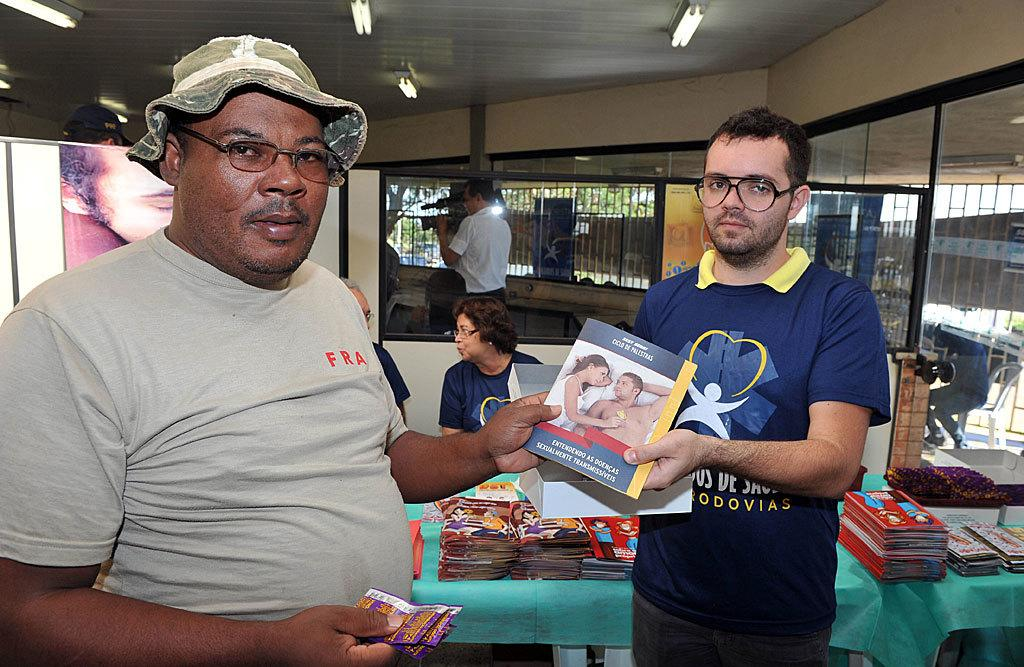Hat: (126, 32, 368, 174)
